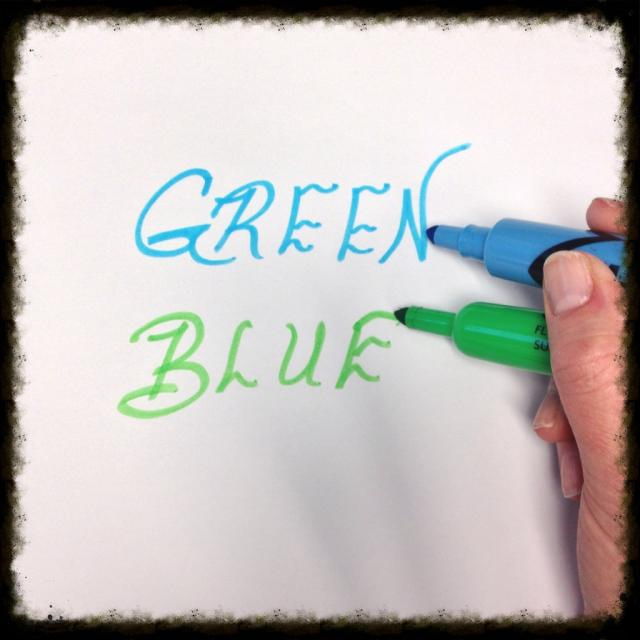pen: (422, 215, 626, 298), (392, 302, 562, 379)
